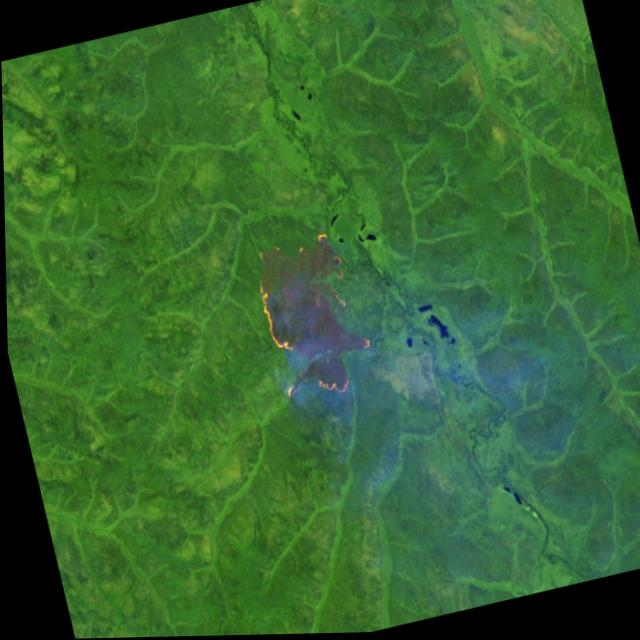fire: (242, 221, 382, 413)
